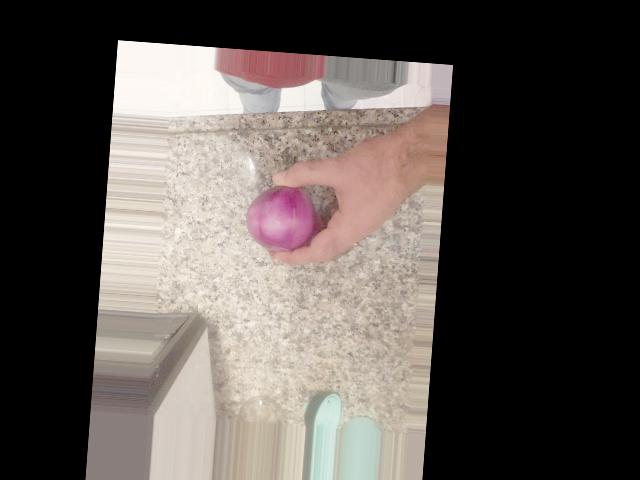onion: (239, 168, 316, 264)
